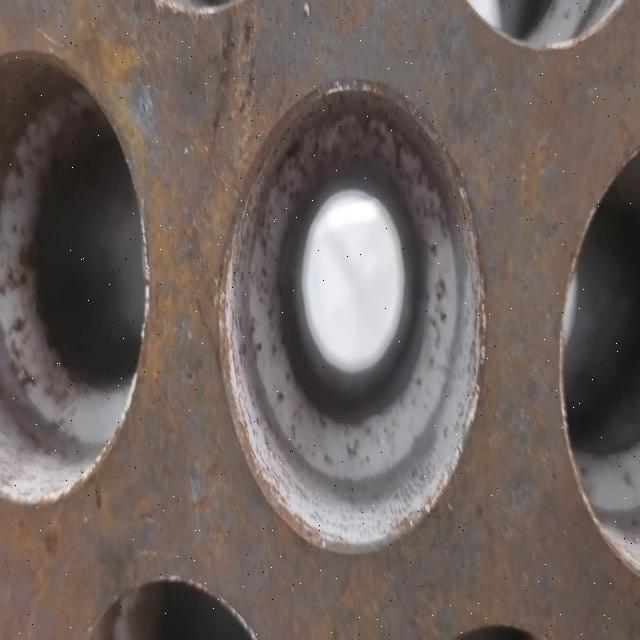Hole: (217, 78, 485, 640), (0, 49, 149, 501), (559, 109, 640, 635)
